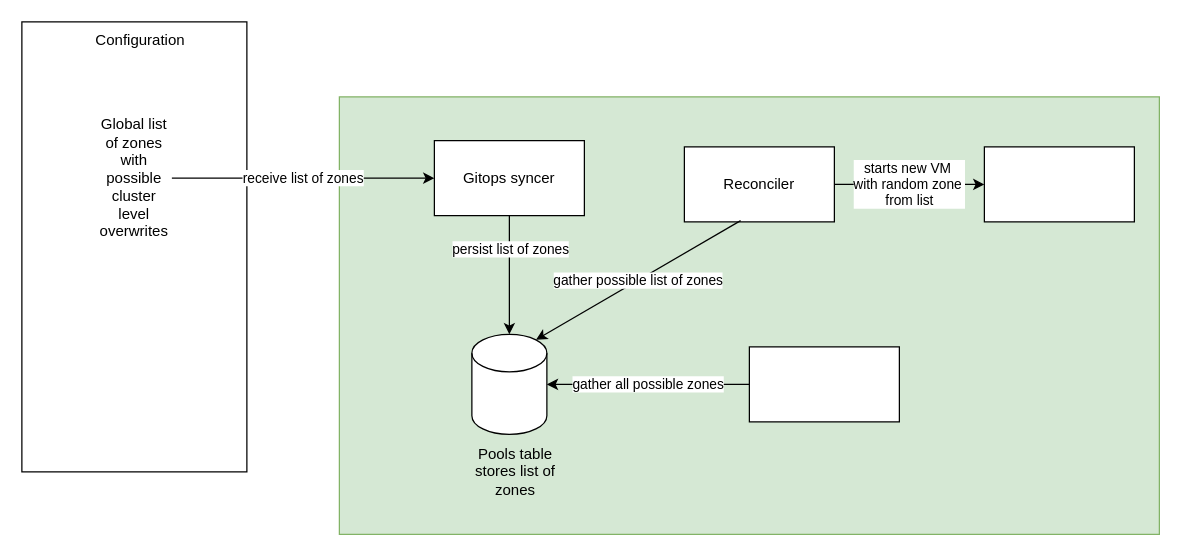
The diagram is 1181 pixels wide and 556 high, and some of its shapes have lost their labels. Each missing label, with the centre of its shape:
"Garbage Collector" belongs at (823,384).
"GCP" belongs at (1058,184).
